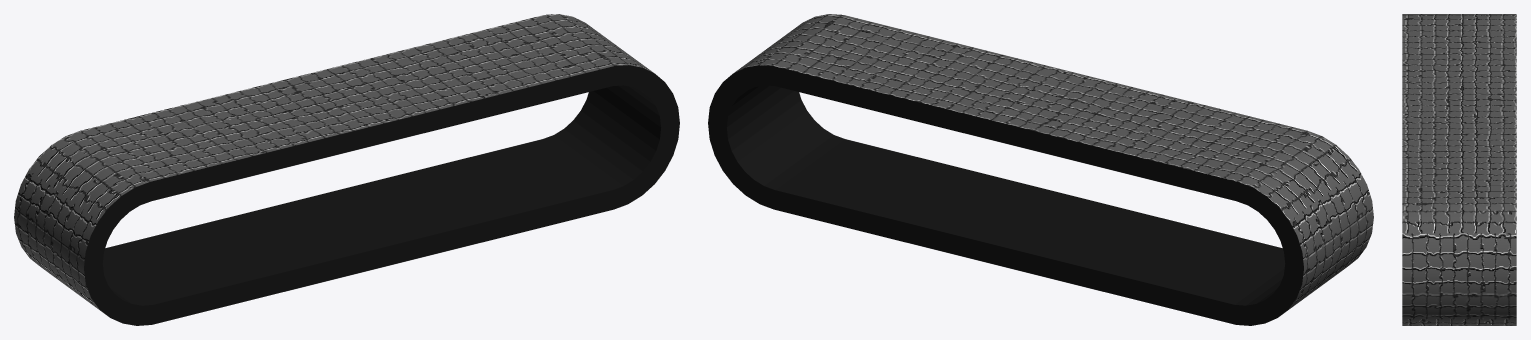
File: conveyor.FBX
3 views of the same model, side by side, from view 1: azimuth 30°, elevation 25°; view 2: azimuth 150°, elevation 25°; view 3: azimuth 270°, elevation 25° (orthographic). The views are drawn at different scales.
Parts seen in each view (by area): view 1: conveyor, belt; view 2: conveyor, belt; view 3: belt.
Boxes of the visible parts, x1,y1,x2,y2 form: conveyor: [84, 65, 679, 325]; belt: [14, 14, 653, 314]; conveyor: [708, 65, 1303, 325]; belt: [734, 14, 1373, 314]; belt: [1402, 14, 1516, 325].
Size of the model in its own units: 389 by 91.12 by 79.
Materials: 2 (1 with a texture image).
